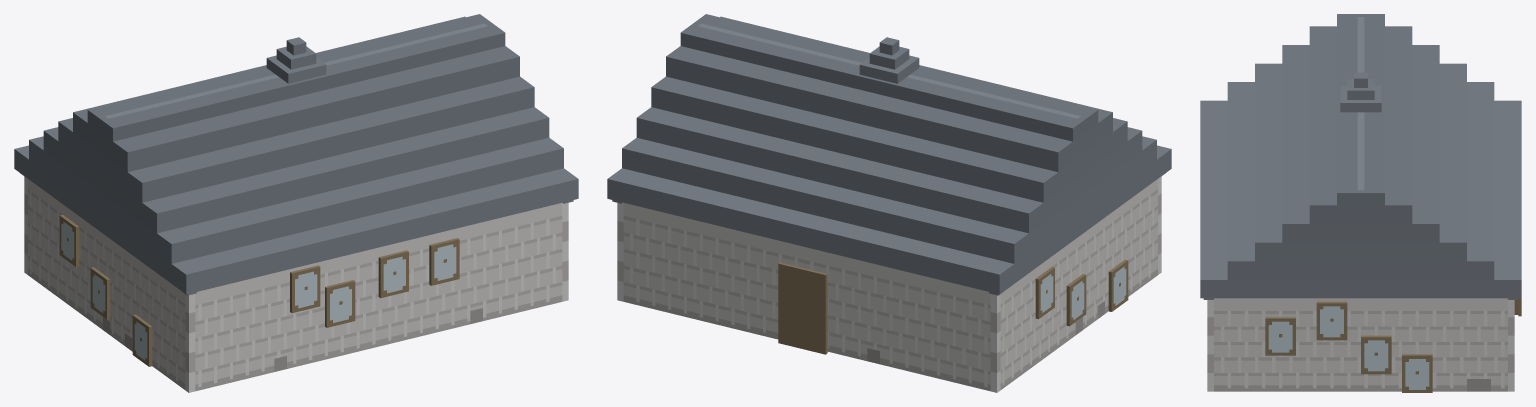
File: mausoleo_04.glb
3 renders of one model, left to right at view 1: azimuth 30°, elevation 25°; view 2: azimuth 150°, elevation 25°; view 3: azimuth 270°, elevation 25°, orthographic. The views are drawn at different scales.
Visible parts, largest first — view 1: mausoleo_04; view 2: mausoleo_04; view 3: mausoleo_04.
Part boxes in pixels (x1,y1,x2,y2): mausoleo_04: (14,14,578,392); mausoleo_04: (607,14,1171,392); mausoleo_04: (1200,14,1521,392).
Size of the model in its own units: 12.4 by 7.4 by 9.4.
